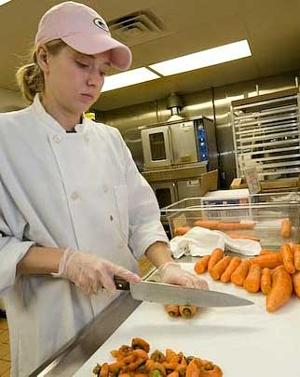person: (1, 1, 211, 377)
